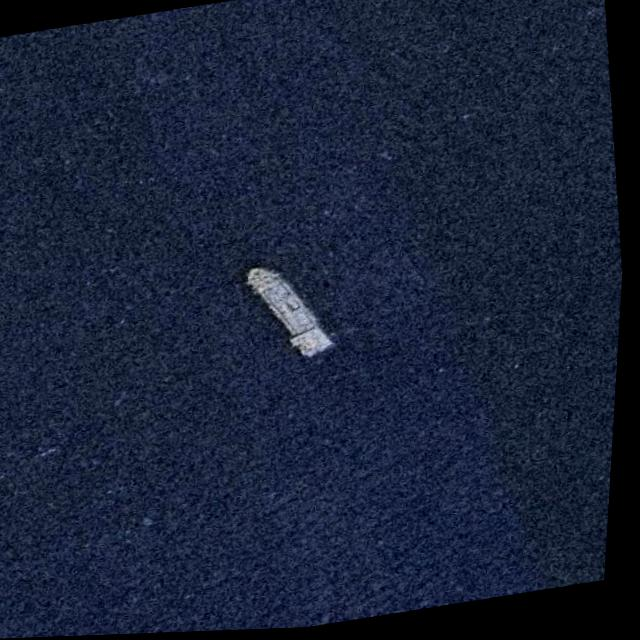ship2: (248, 266, 337, 358)
